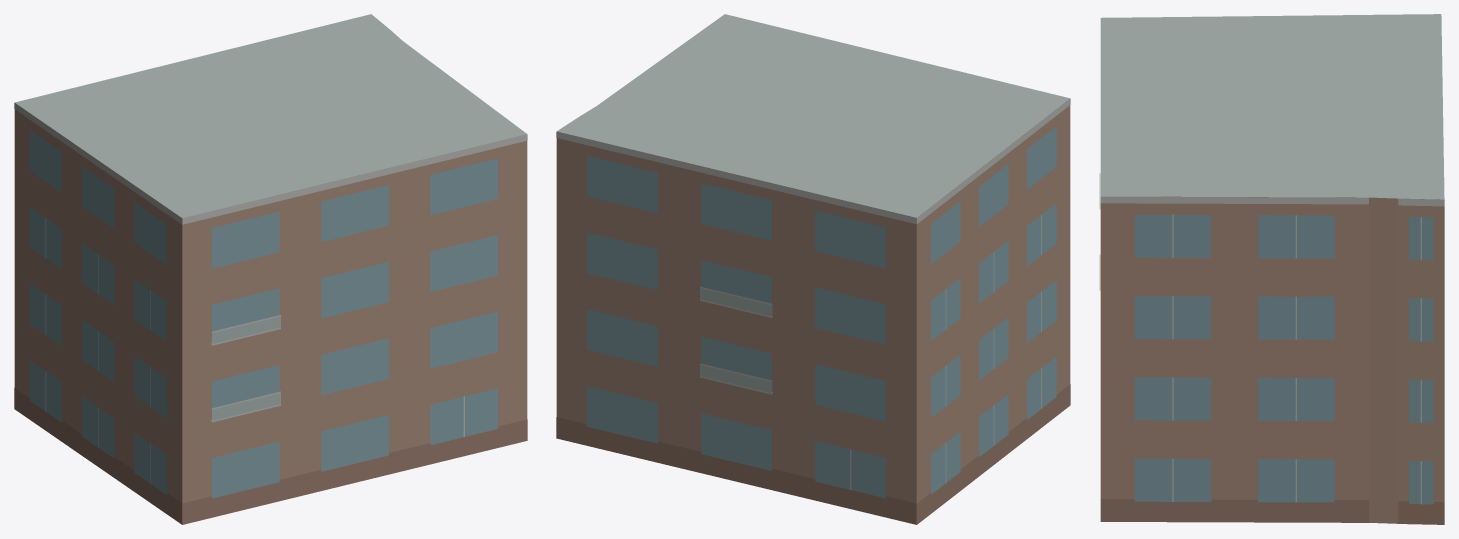
File: survey-upis-32840878.glb
3 views of the same model, side by side, from view 1: azimuth 30°, elevation 25°; view 2: azimuth 150°, elevation 25°; view 3: azimuth 270°, elevation 25° (orthographic). The views are drawn at different scales.
Visible parts, largest first — view 1: survey-upis-32840878.tmp; view 2: survey-upis-32840878.tmp; view 3: survey-upis-32840878.tmp.
Part boxes in pixels (<box>): survey-upis-32840878.tmp: <box>14,14,527,524</box>; survey-upis-32840878.tmp: <box>556,14,1070,524</box>; survey-upis-32840878.tmp: <box>1099,14,1444,524</box>.
Size of the model in its own units: 14.14 by 11.55 by 11.12.
